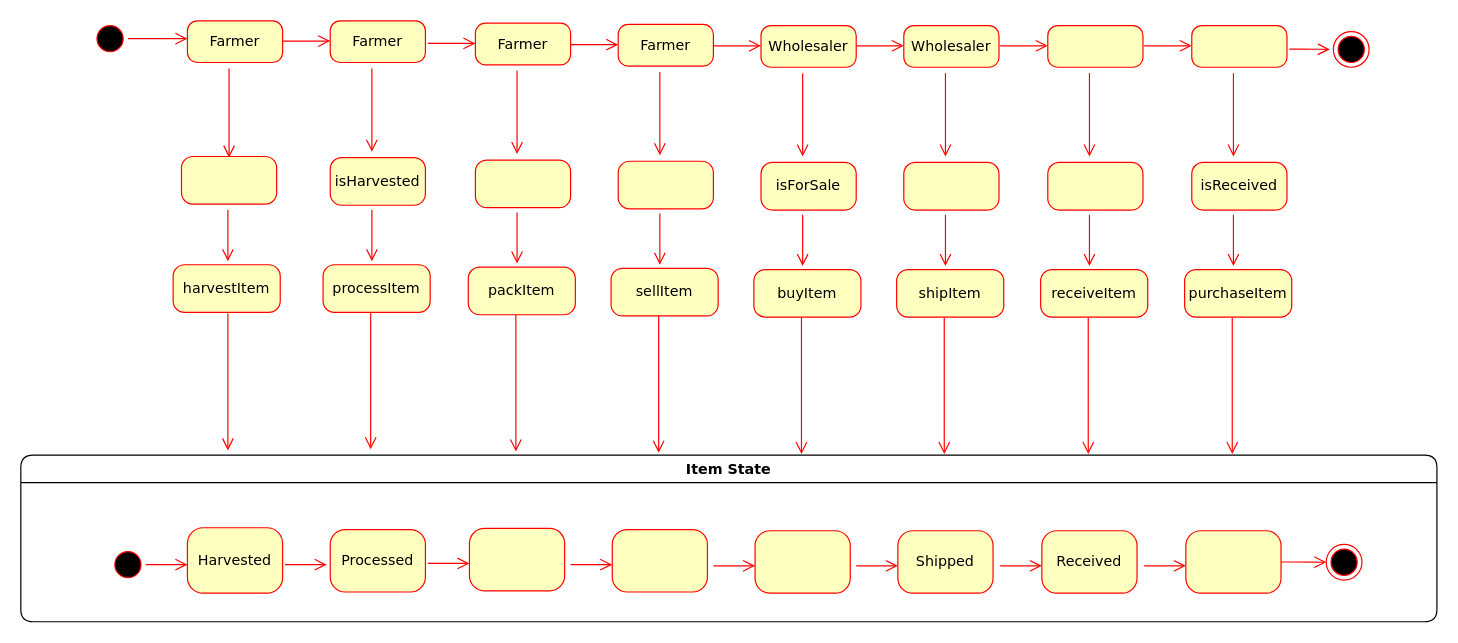
This 1458x643 diagram has some shape labels left out. Each missing label, with the box of its shape:
Consumer: (1191, 24, 1287, 67)
ForSale: (611, 528, 707, 592)
isNew: (180, 155, 277, 204)
isPacked: (617, 160, 713, 209)
isProcessed: (474, 159, 571, 208)
isShipped: (1047, 161, 1143, 210)
isSold: (903, 161, 999, 210)
Packed: (468, 527, 565, 591)
Purchased: (1185, 530, 1281, 593)
Retailer: (1047, 24, 1143, 67)
Sold: (754, 530, 850, 593)
